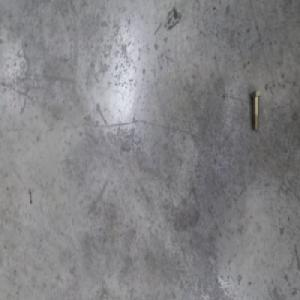Bolt: (251, 90, 262, 132)
